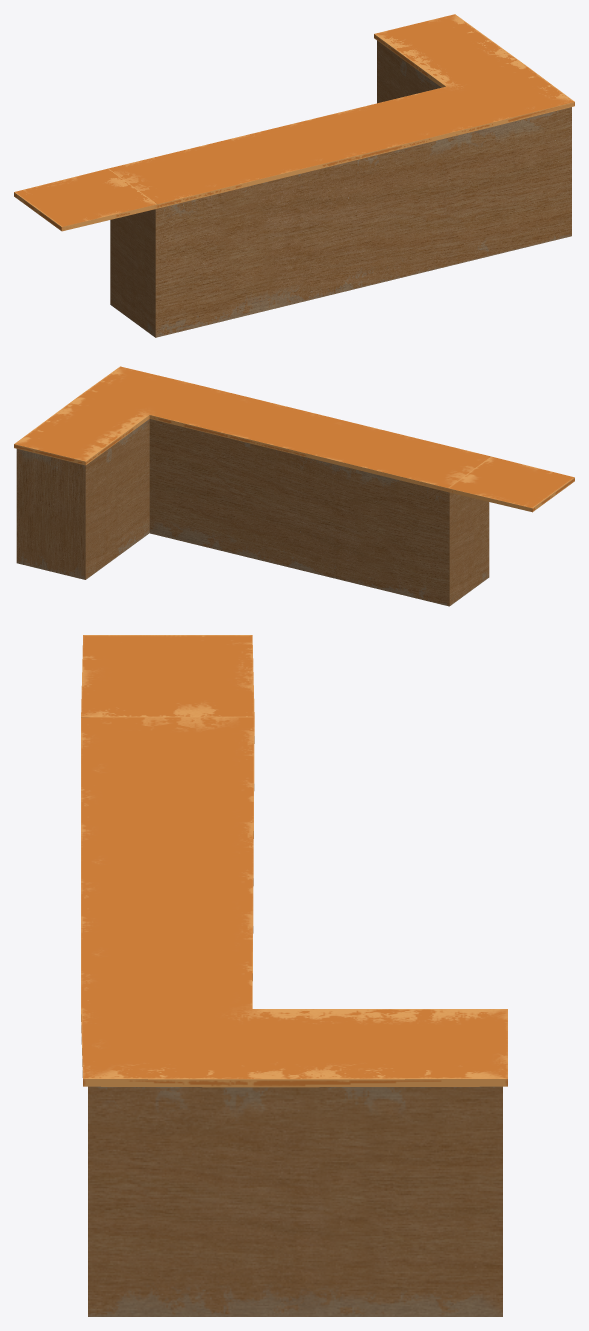
File: Reception Counter.glb
3 views of the same model, one above another, from view 1: azimuth 30°, elevation 25°; view 2: azimuth 150°, elevation 25°; view 3: azimuth 270°, elevation 25° (orthographic). The views are drawn at different scales.
Parts seen in each view (by area): view 1: Cube, Cube.001; view 2: Cube, Cube.001; view 3: Cube, Cube.001.
Boxes of the visible parts, x1=… form: Cube: x1=109, y1=14, x2=574, y2=337; Cube.001: x1=14, y1=168, x2=157, y2=231; Cube: x1=14, y1=366, x2=490, y2=606; Cube.001: x1=448, y1=456, x2=574, y2=512; Cube: x1=81, y1=717, x2=507, y2=1316; Cube.001: x1=81, y1=635, x2=254, y2=717.
Bounding box in the file's own units: 5.02 × 1.26 × 2.04.
2 materials, 2 textured.
